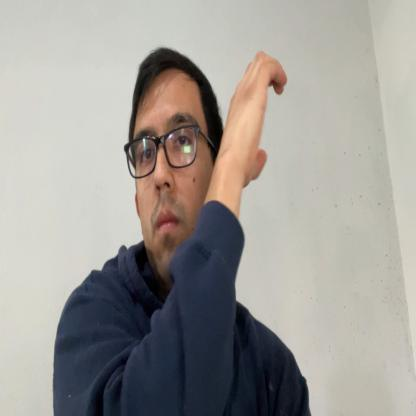C: (240, 49, 288, 186)
